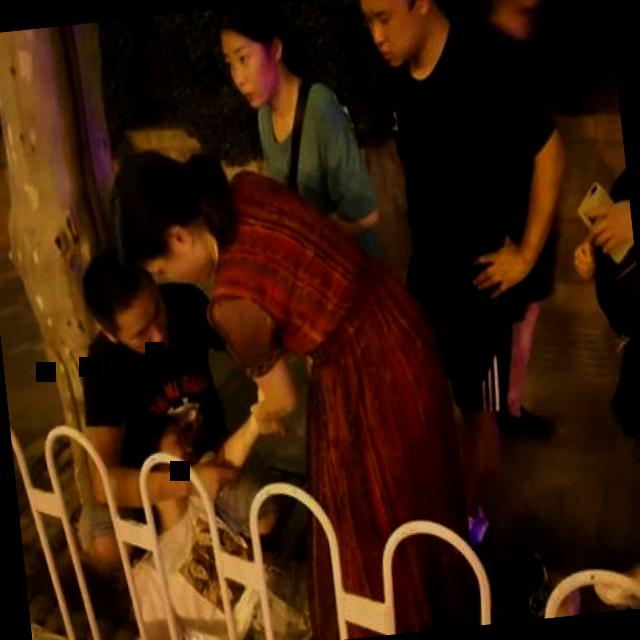Fall-Detected: (116, 359, 345, 640)
